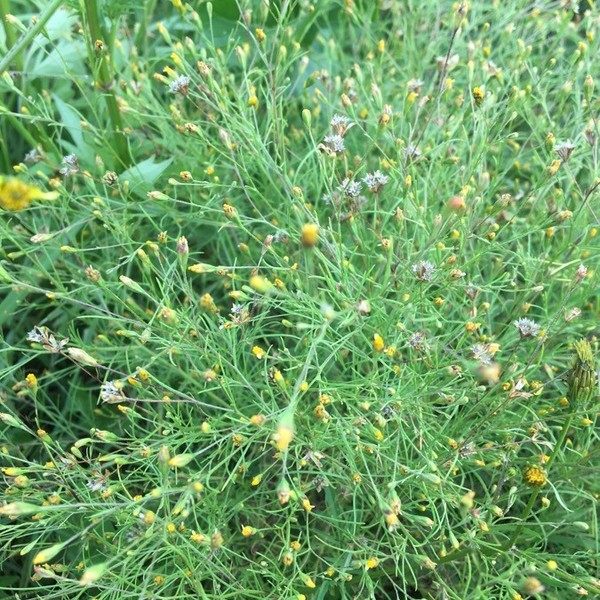obstacle: (150, 76, 491, 552)
